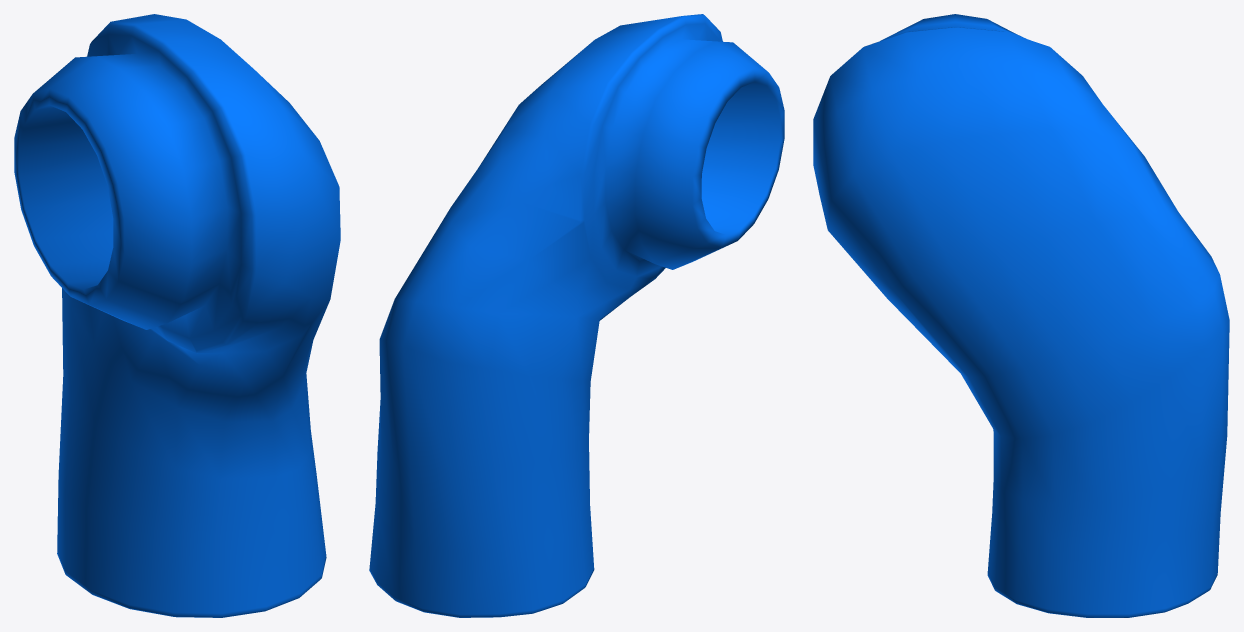
Rendered from bras-g.obj.
3 renders of one model, left to right at view 1: azimuth 30°, elevation 25°; view 2: azimuth 150°, elevation 25°; view 3: azimuth 270°, elevation 25°, orthographic. The views are drawn at different scales.
Parts seen in each view (by area): view 1: bras-g; view 2: bras-g; view 3: bras-g.
Boxes of the visible parts, x1=… form: bras-g: x1=14, y1=14, x2=340, y2=617; bras-g: x1=369, y1=14, x2=784, y2=617; bras-g: x1=813, y1=14, x2=1229, y2=617.
Bounding box in the file's own units: 0.4517 × 0.8027 × 0.6041.
1 material, 1 textured.
